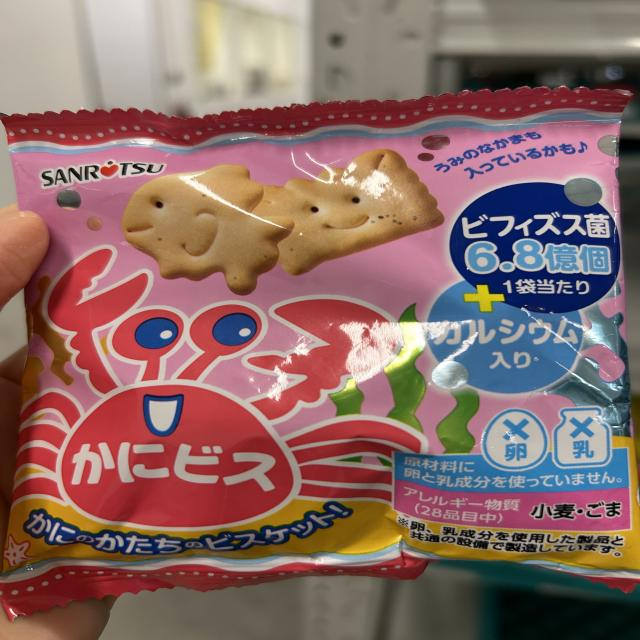object_name: (38, 124, 618, 565)
